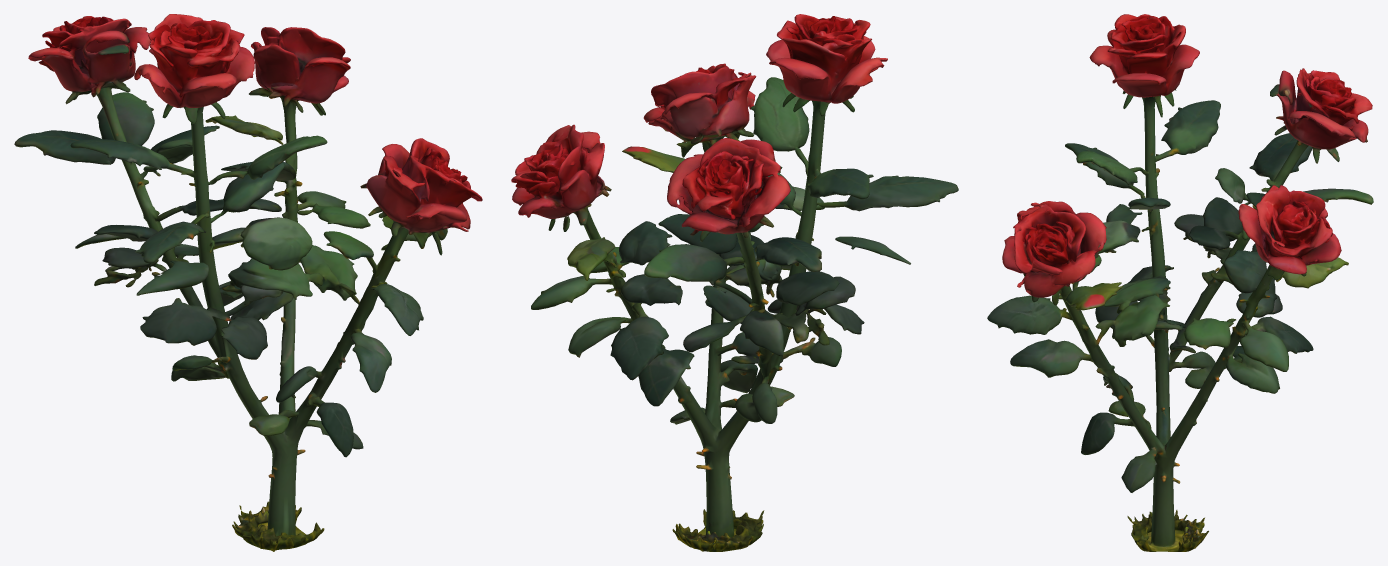
File: nature-bush-rose.glb
3 renders of one model, left to right at view 1: azimuth 30°, elevation 25°; view 2: azimuth 150°, elevation 25°; view 3: azimuth 270°, elevation 25°, orthographic. The views are drawn at different scales.
Parts seen in each view (by area): view 1: tripo_node_ce66ad3f-e285-4c02-84de-6928fdfc5056; view 2: tripo_node_ce66ad3f-e285-4c02-84de-6928fdfc5056; view 3: tripo_node_ce66ad3f-e285-4c02-84de-6928fdfc5056.
Boxes of the visible parts, left/top/right/bottom form: tripo_node_ce66ad3f-e285-4c02-84de-6928fdfc5056: left=14, top=14, right=482, bottom=551; tripo_node_ce66ad3f-e285-4c02-84de-6928fdfc5056: left=511, top=14, right=958, bottom=551; tripo_node_ce66ad3f-e285-4c02-84de-6928fdfc5056: left=987, top=14, right=1373, bottom=551.
Bounding box in the file's own units: 0.7568 × 1.2 × 0.8835.
1 material, 1 textured.
